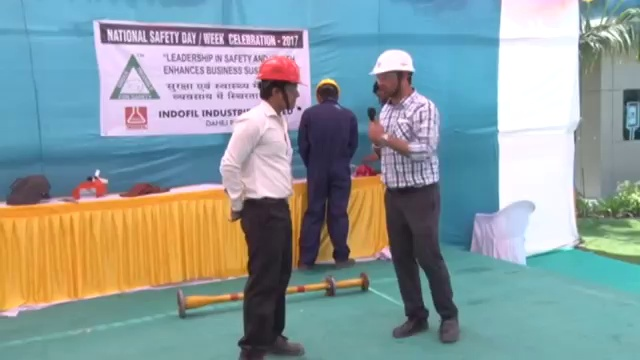helmet: (256, 56, 308, 90), (366, 48, 419, 76), (315, 77, 342, 96)
helmet_on: (253, 57, 308, 118), (366, 49, 420, 108), (313, 75, 345, 108)
person: (364, 49, 461, 343), (218, 58, 306, 358), (299, 75, 360, 269)
